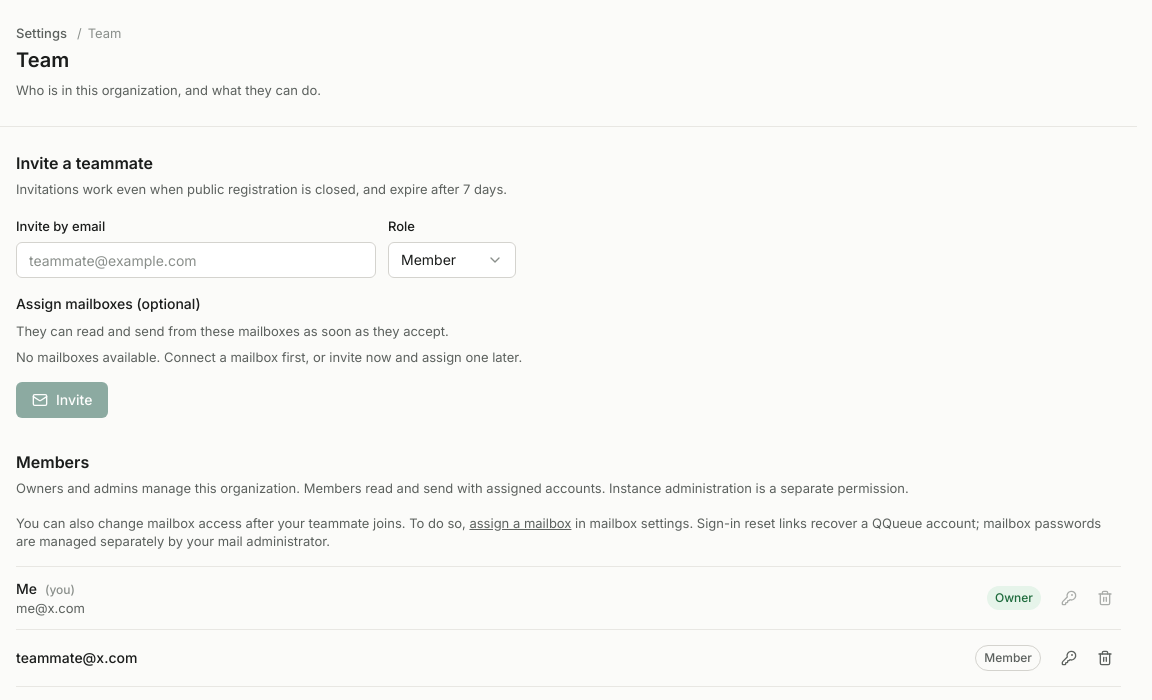
limits admins to member invitations and prevents editing another admin
Click the dropdown named "Role": point(452, 260) [388,242,516,278]
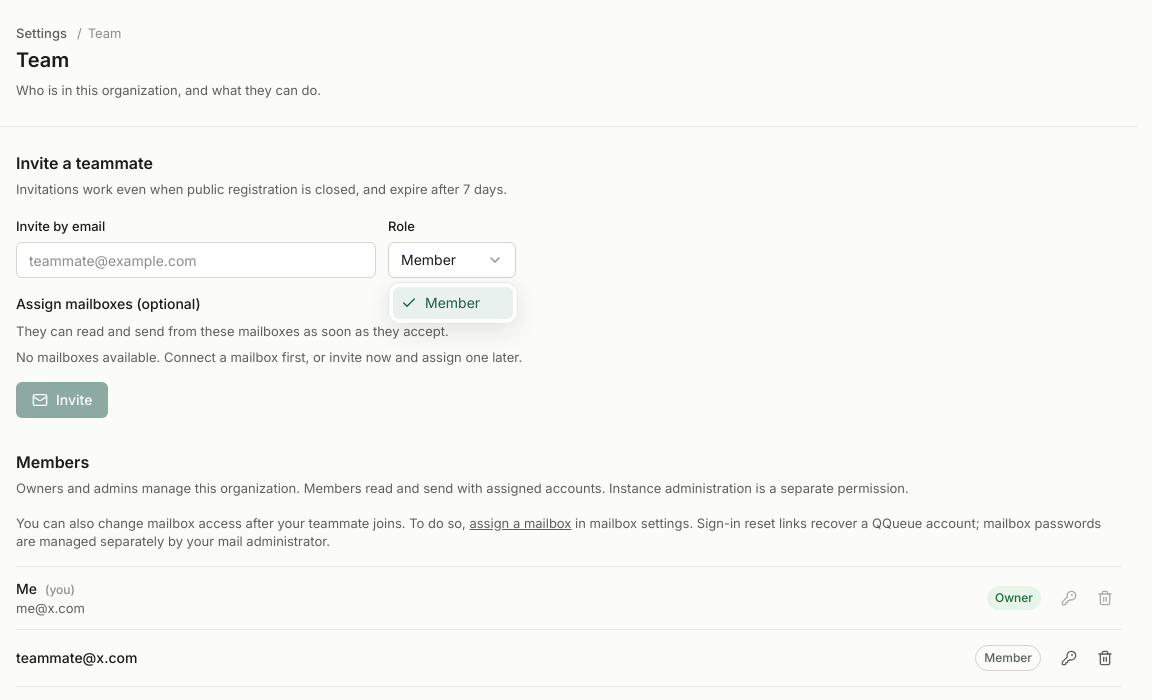
Now the option "Member" is shown, box [393,287,513,319]
